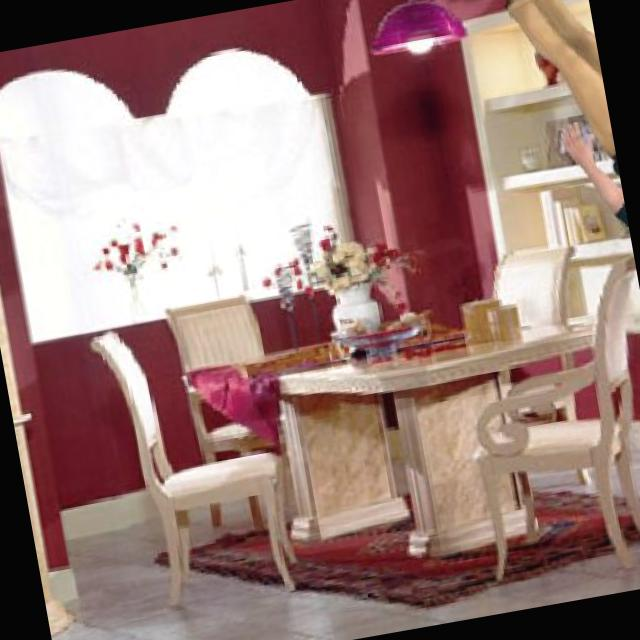Person: (495, 0, 628, 238)
